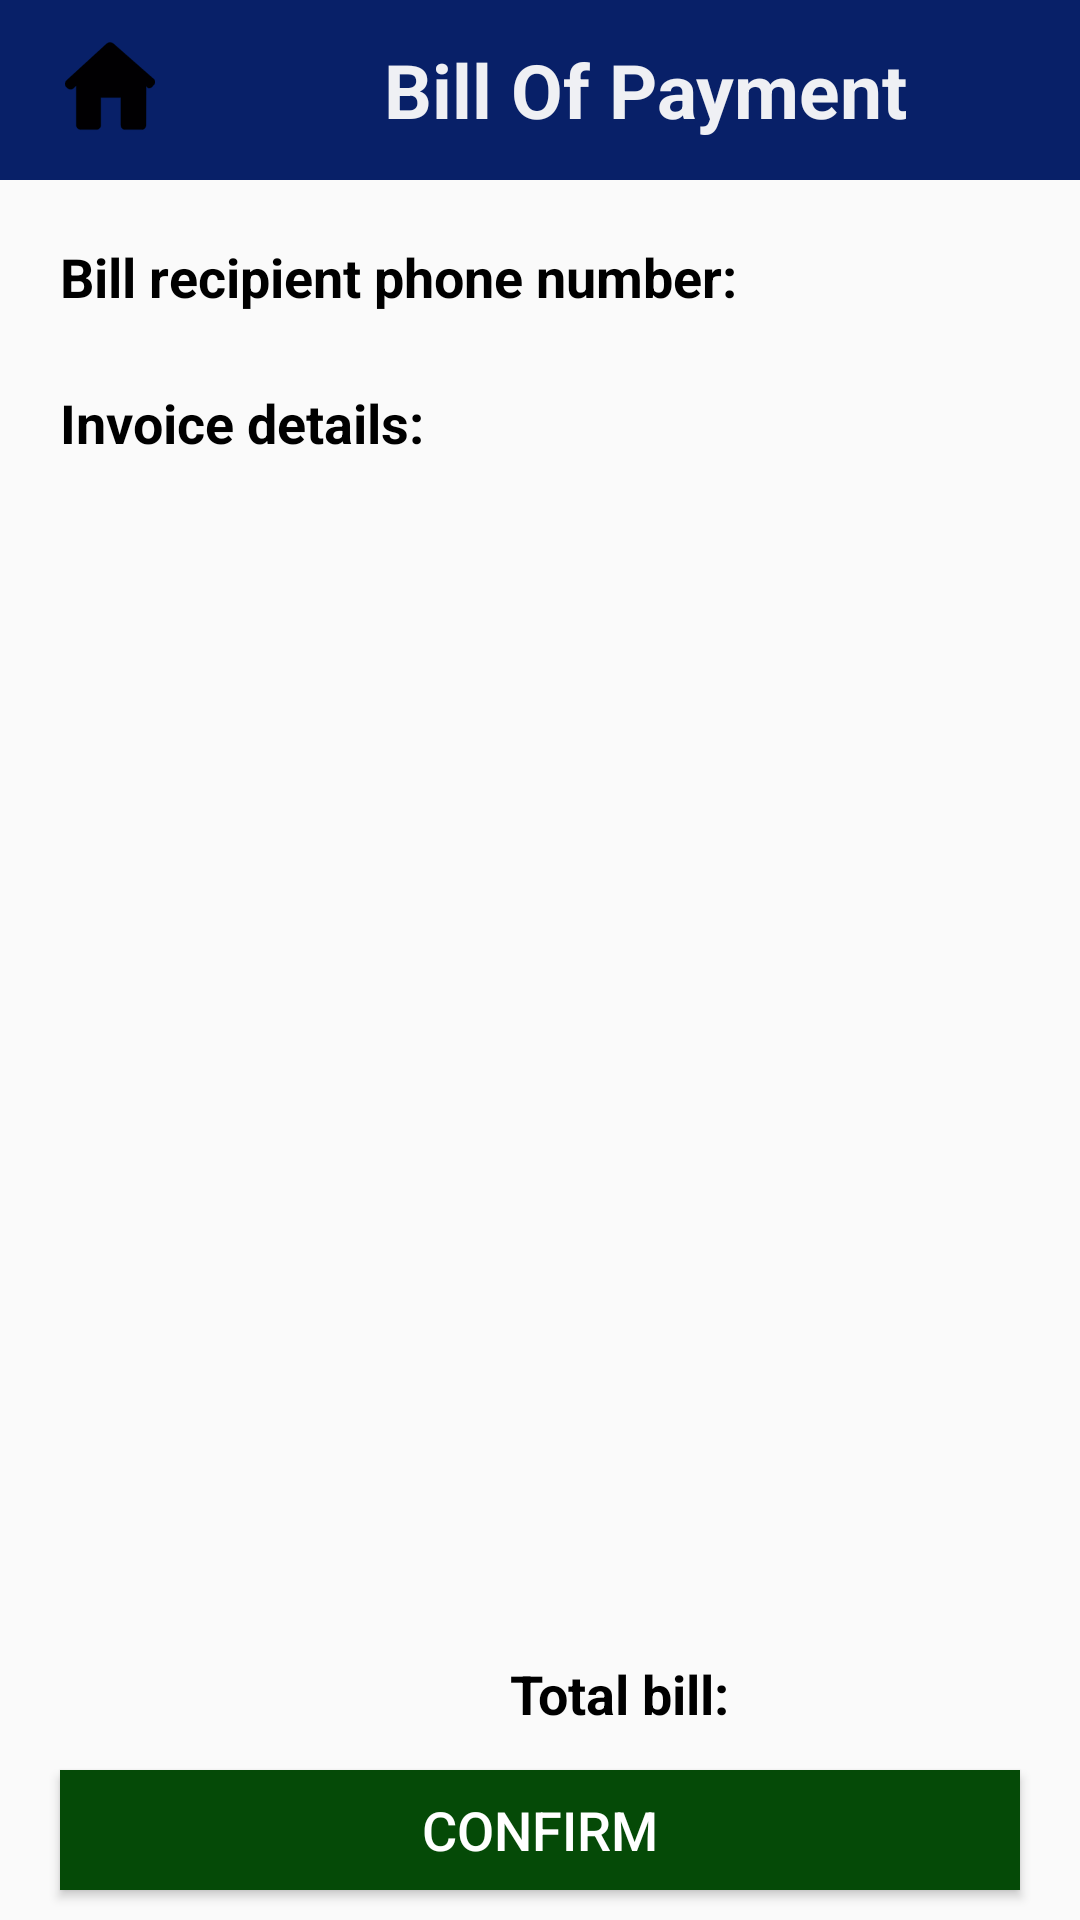

Icons on this 1080x1920 Android screen, each with its box as (x1, y1, x2, y2):
homeback: (65, 42, 155, 130)
